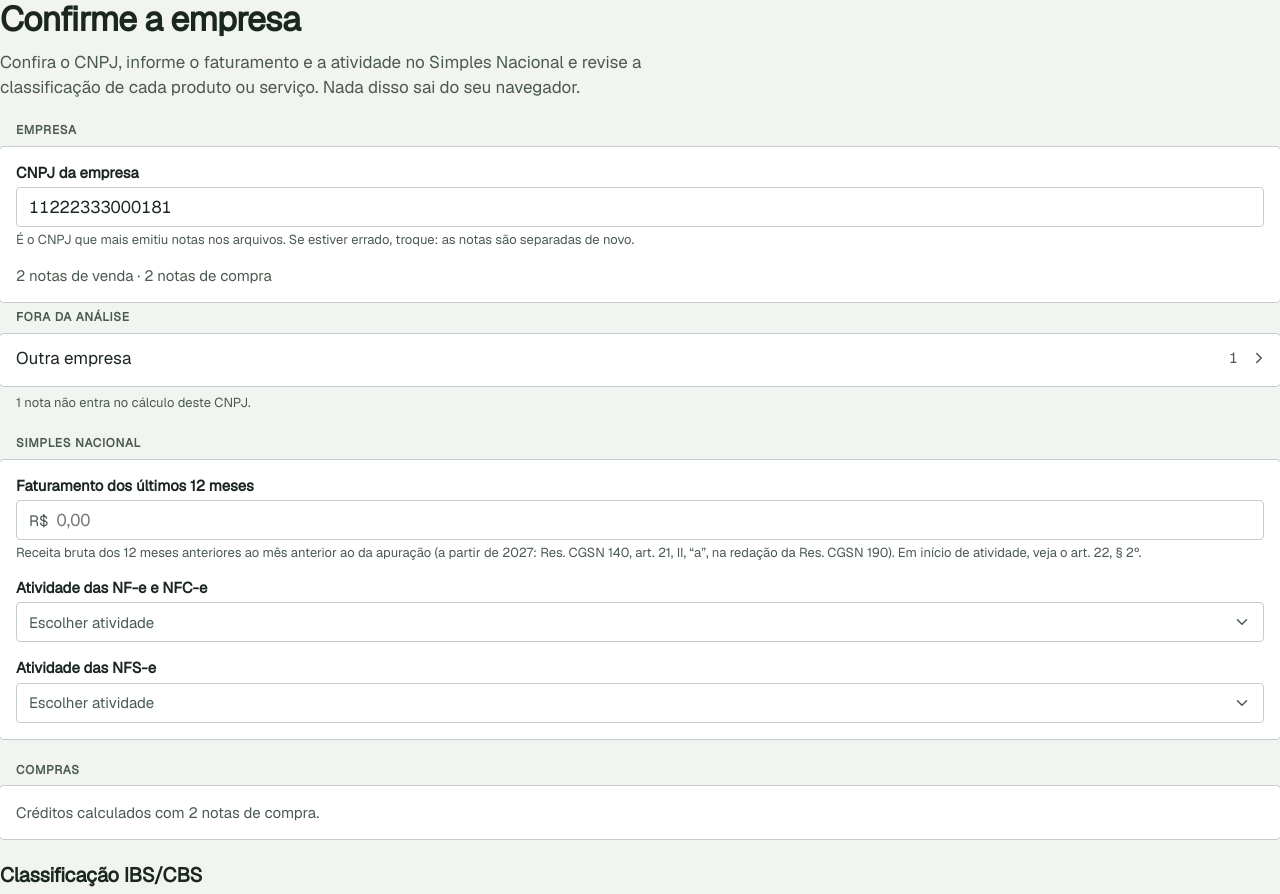
Test case: Confirmar — atividade do Simples › filtra pelas atividades admissíveis ao tipo (mercadorias × serviços) e some a "não tributável"
The image size is (1280, 894).
Click the button named "Atividade das NF-e e NFC-e" at {"x": 92, "y": 622}, box [16,602,1264,642]
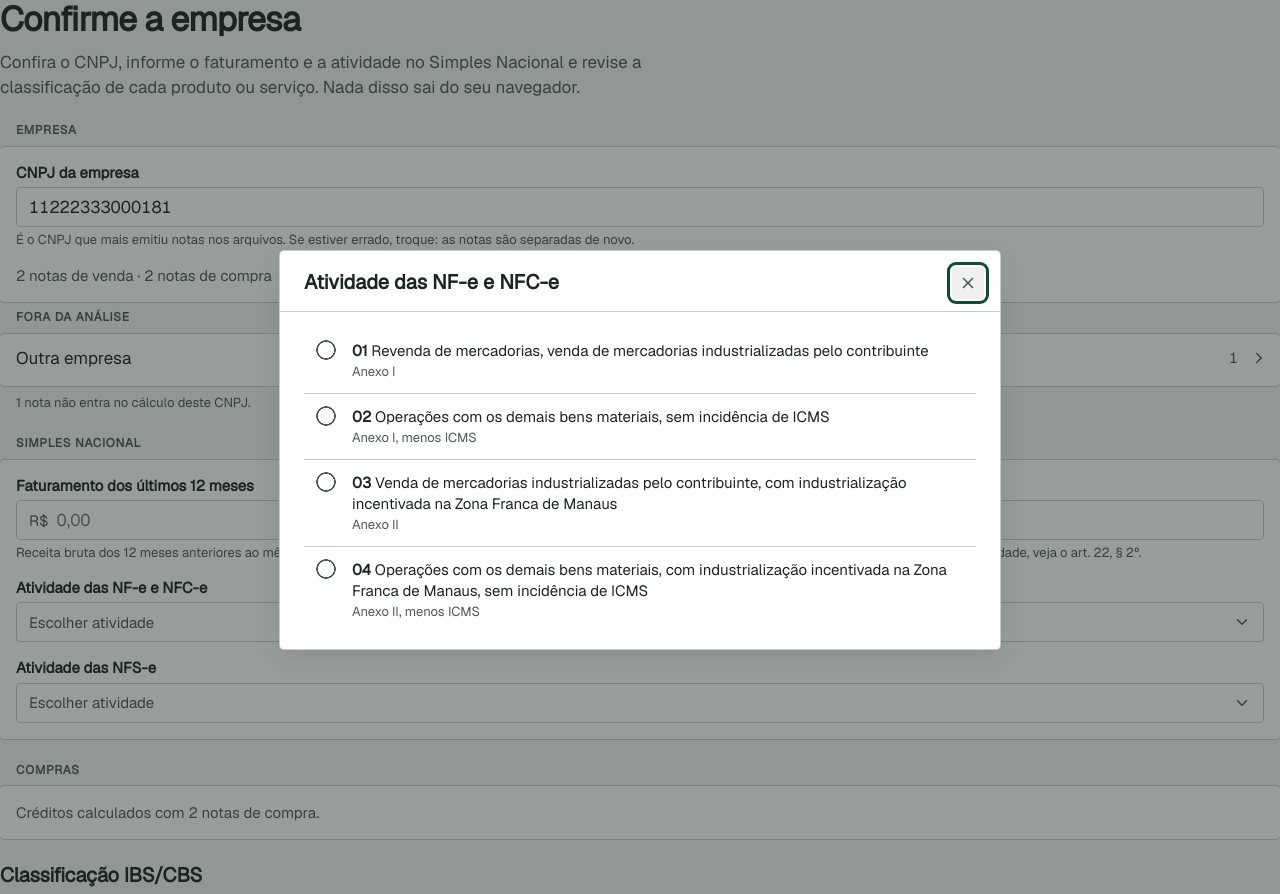
Expected: the radio button labelled "01 " is shown, [304,328,348,372]
